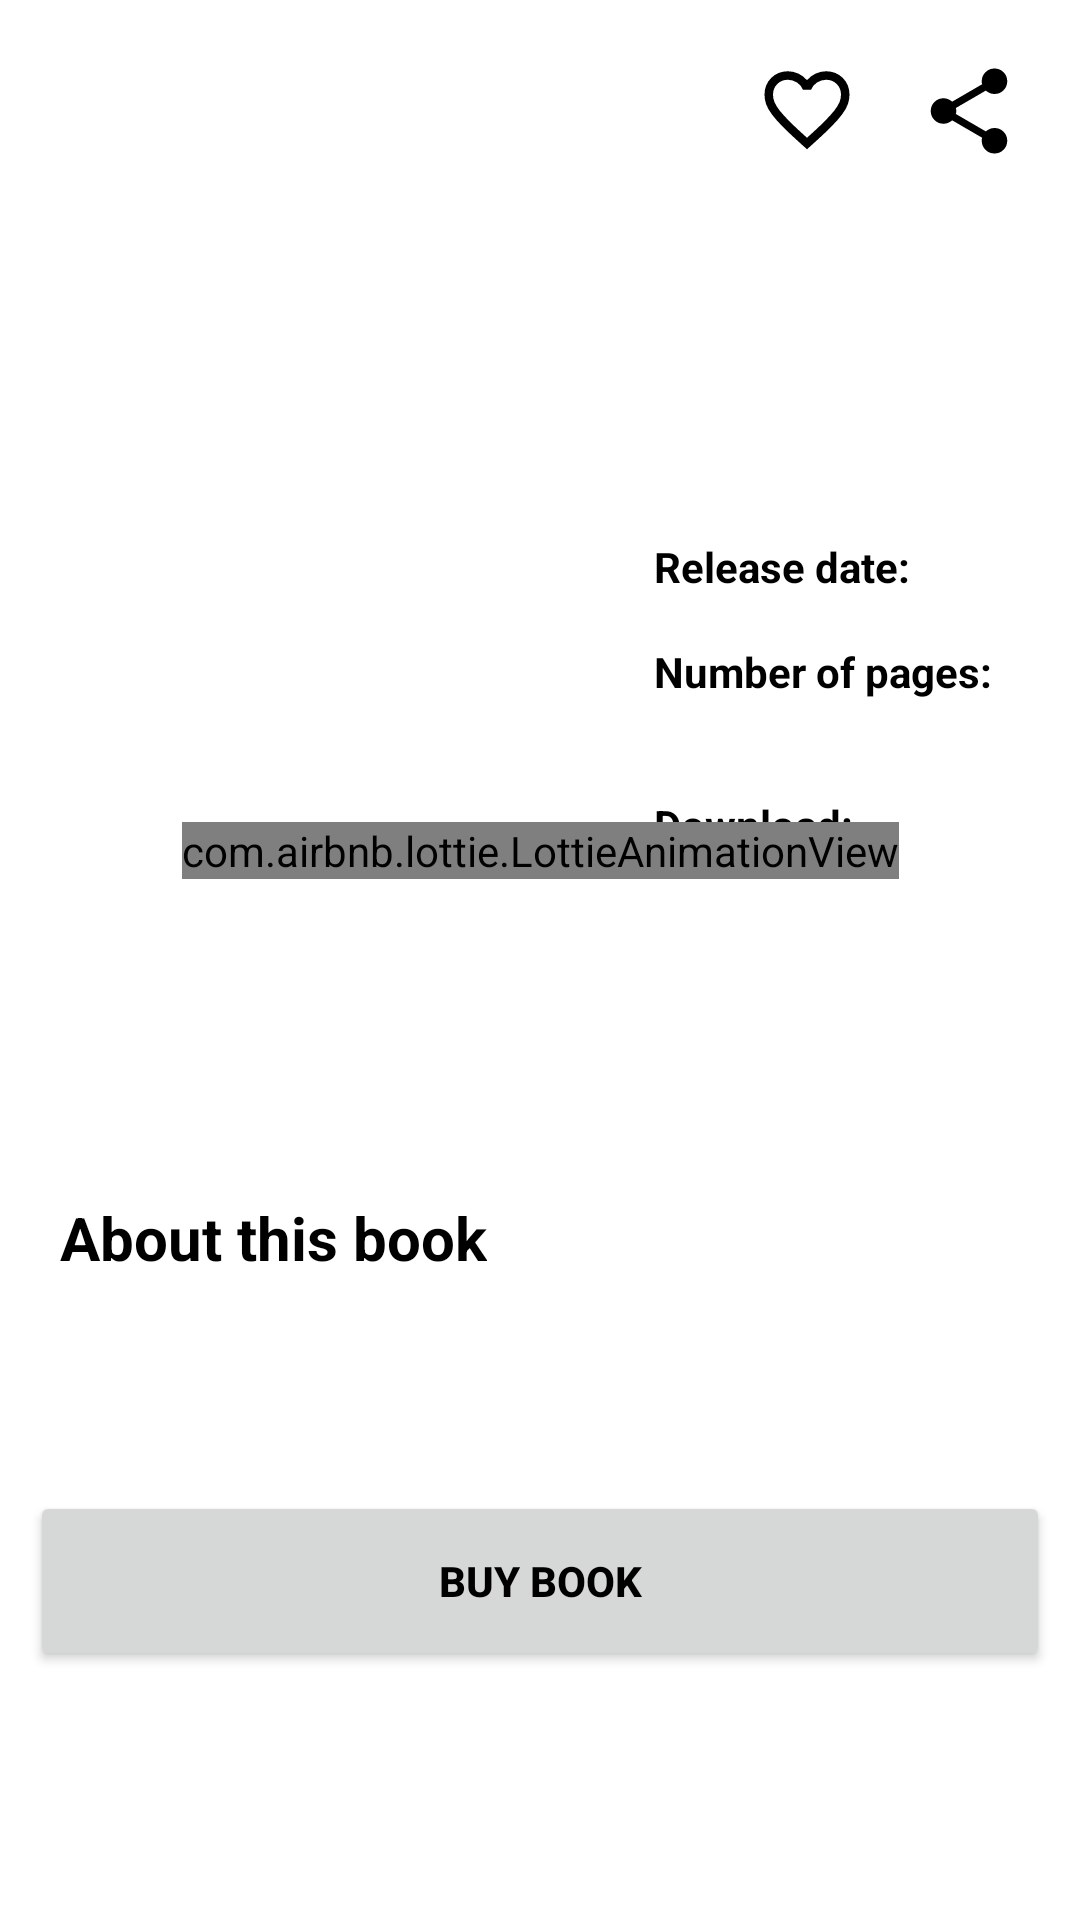

Where icons sit on this 1080*1920 app screen, as detection(x1, y1, x2, y2):
favorite: detection(764, 71, 850, 149)
share: detection(930, 68, 1008, 154)
